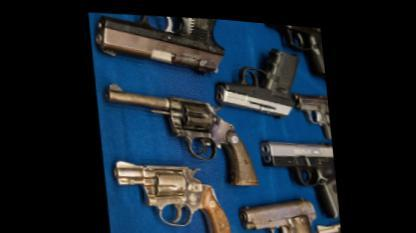pistol: (102, 73, 258, 185), (110, 149, 232, 231), (94, 7, 238, 76), (209, 36, 308, 116), (256, 127, 338, 215), (233, 185, 320, 231), (264, 19, 327, 76), (289, 83, 330, 133)
